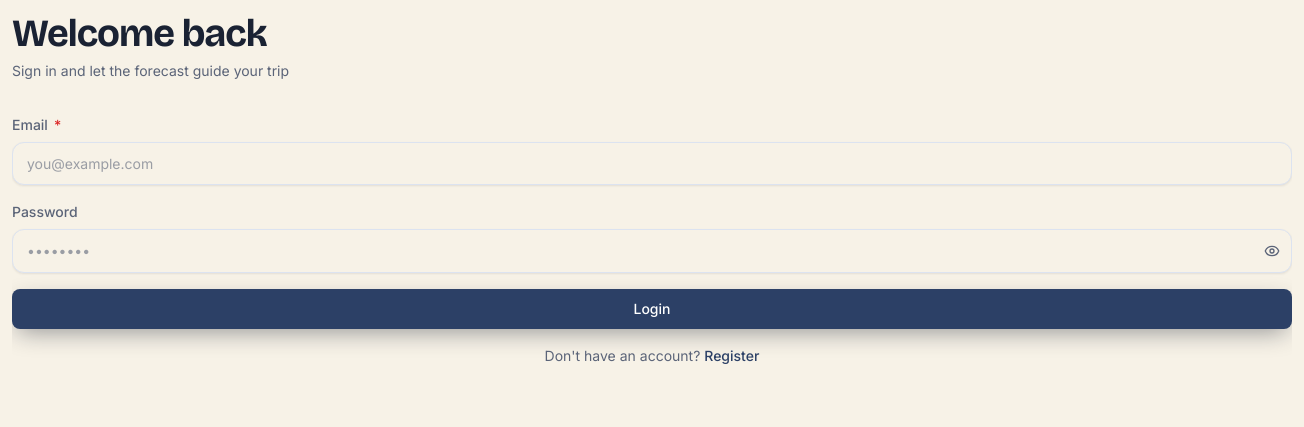
Scenario: shows a network-specific message when the backend is unreachable, not "invalid email or password"
Type "user@example.com" into the field labelled "Email *" at (652, 163), box [12, 142, 1292, 185]
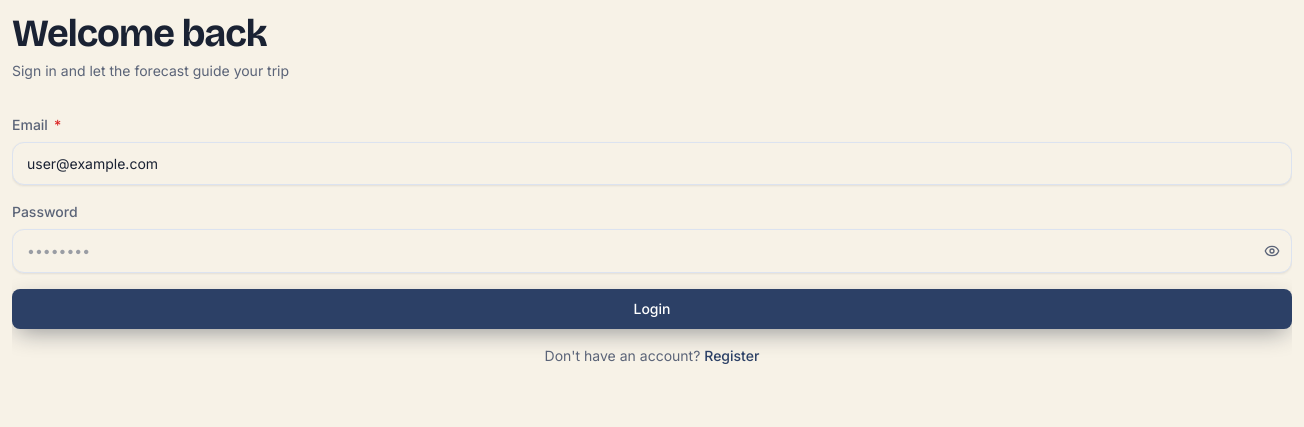
Type "wrongpass" into the password field labelled "Password" at (652, 251), box [12, 229, 1292, 273]
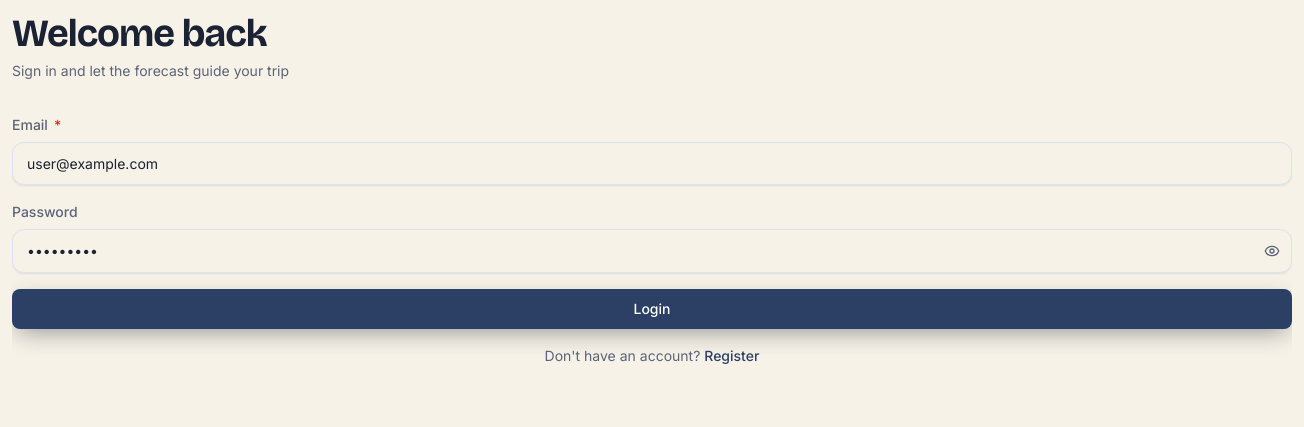
Click the button "Login" at (652, 309), box [12, 289, 1292, 329]
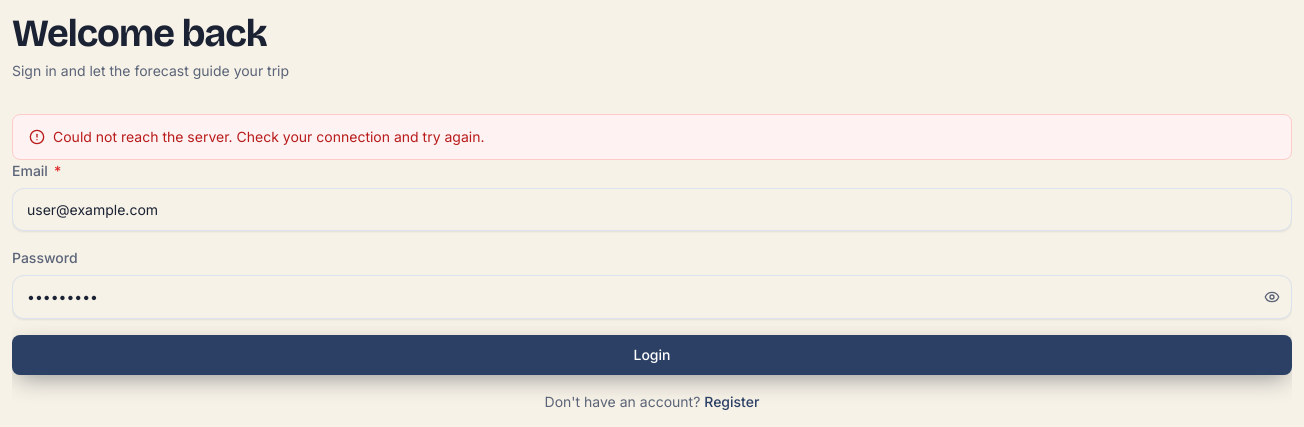
expect the text "Could not reach the server" is shown: met, box [53, 128, 484, 145]
